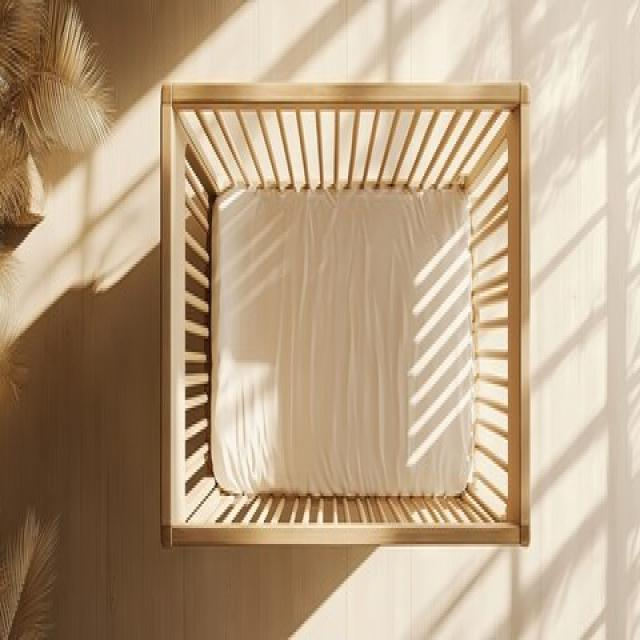crib: (158, 78, 530, 550)
